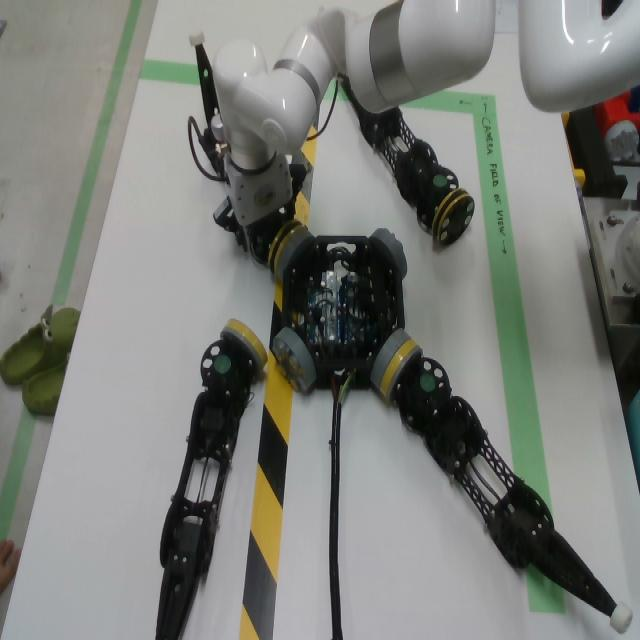body: (283, 235, 404, 391)
body_connector: (272, 327, 317, 393), (370, 328, 411, 388), (369, 228, 407, 280), (278, 228, 315, 277)
gripper: (213, 155, 307, 253)
leg: (381, 340, 634, 635), (154, 319, 268, 640), (338, 73, 476, 245), (245, 208, 302, 273), (189, 31, 220, 144)
leg_connector: (219, 319, 268, 376), (381, 340, 423, 401), (432, 188, 475, 245), (268, 219, 303, 275)
leg_marker: (215, 355, 230, 372), (421, 373, 435, 391), (433, 175, 447, 187)
